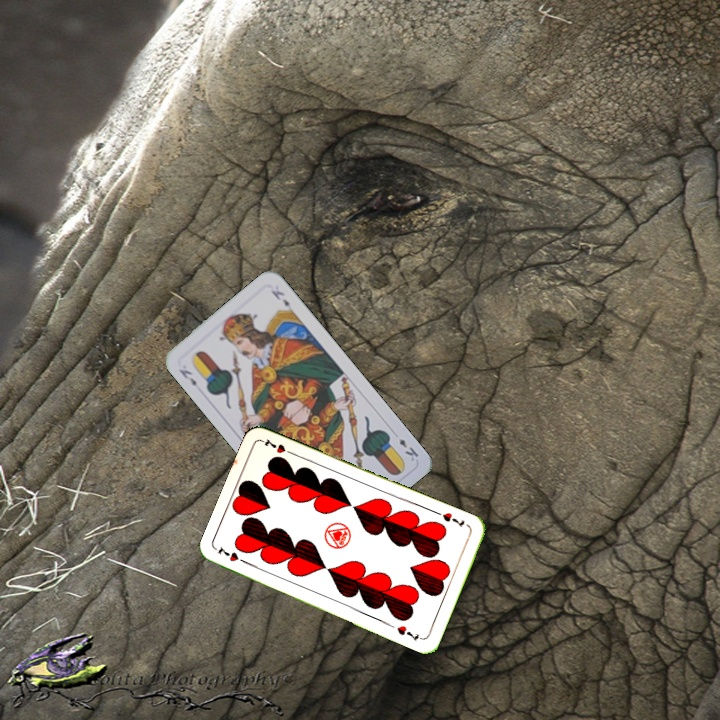EK: (395, 434, 421, 464), (175, 365, 199, 389)
H7: (213, 543, 251, 567), (438, 508, 467, 530)
